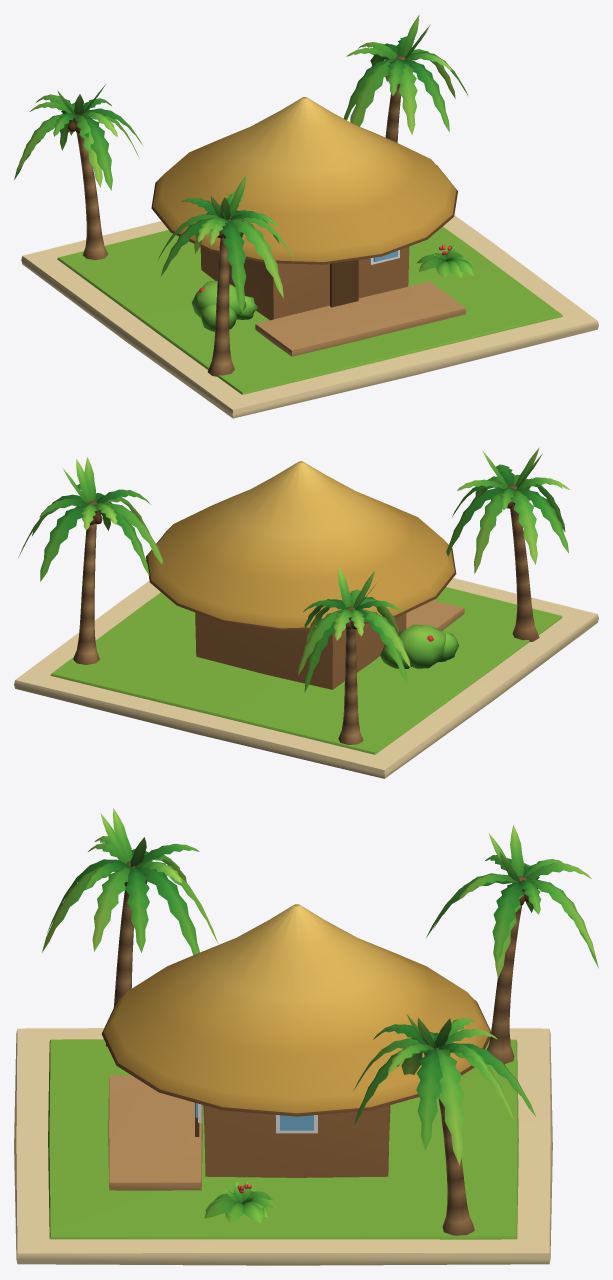
The model's file is BeachHotel_L1.obj.
The picture shows the model from 3 angles, top to bottom: view 1: azimuth 30°, elevation 25°; view 2: azimuth 150°, elevation 25°; view 3: azimuth 270°, elevation 25°; orthographic projection. The views are drawn at different scales.
Parts seen in each view (by area): view 1: BeachHotel_L1; view 2: BeachHotel_L1; view 3: BeachHotel_L1.
Boxes of the visible parts, <box> form: BeachHotel_L1: <box>14,15,598,418</box>; BeachHotel_L1: <box>14,447,598,778</box>; BeachHotel_L1: <box>14,808,598,1265</box>.
Bounding box in the file's own units: 4.54 × 2.04 × 4.34.
1 material, 1 textured.
